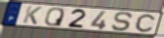2: (67, 9, 87, 29)
4: (89, 10, 108, 31)
C: (135, 14, 157, 33)
K: (22, 5, 43, 25)
Q: (44, 7, 66, 27)
S: (110, 11, 135, 32)
